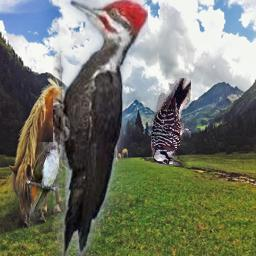Cuckoo: (26, 142, 66, 248)
Woodpecker: (53, 0, 148, 256), (151, 78, 191, 166)
